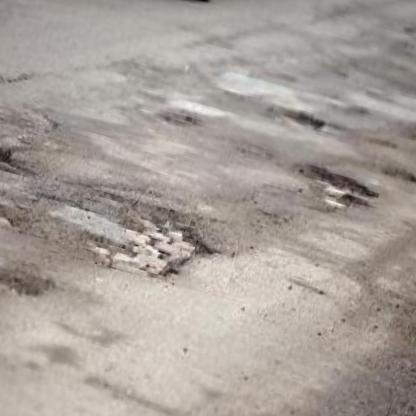pothole: (81, 195, 222, 299), (283, 157, 381, 225), (278, 105, 329, 134), (0, 125, 23, 174)
